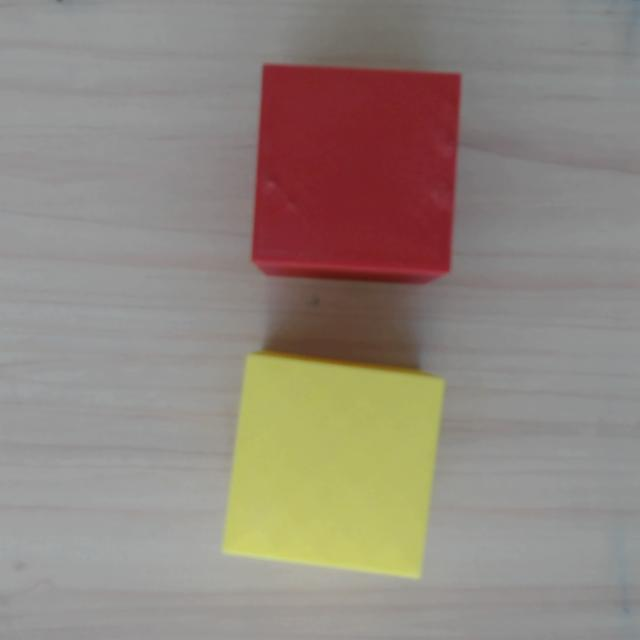Kubus-Kuning-505050: (221, 350, 446, 579)
Kubus-Merah-505050: (251, 64, 461, 284)
